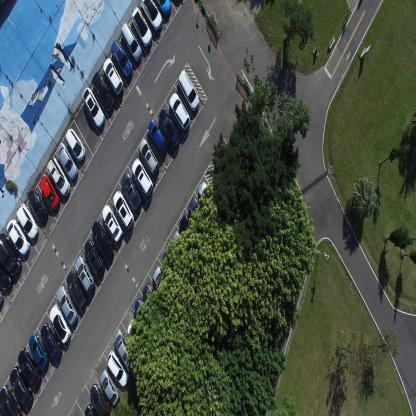car: (9, 364, 33, 408), (46, 156, 70, 198), (17, 347, 41, 389), (91, 70, 114, 113), (82, 86, 105, 129), (158, 108, 181, 150), (0, 231, 21, 276), (91, 218, 113, 260), (130, 5, 152, 47), (120, 21, 142, 63), (6, 218, 30, 256), (49, 303, 71, 344), (57, 284, 78, 326), (110, 39, 132, 79), (40, 322, 62, 362), (102, 203, 123, 244), (169, 91, 190, 132), (178, 69, 198, 112), (112, 190, 134, 229), (114, 328, 134, 370), (132, 156, 153, 196), (107, 349, 129, 387), (102, 56, 124, 94), (138, 138, 160, 176), (16, 203, 38, 240), (74, 254, 94, 294), (121, 171, 141, 211), (57, 143, 78, 181), (147, 119, 168, 156), (28, 333, 49, 370), (66, 271, 86, 309), (39, 174, 60, 210), (84, 238, 104, 275), (0, 383, 23, 415), (65, 127, 86, 162), (100, 368, 119, 406), (140, 0, 162, 32), (28, 188, 48, 223), (152, 264, 172, 298), (90, 382, 110, 415), (179, 214, 198, 248), (188, 196, 206, 230), (198, 180, 216, 214), (142, 282, 161, 314), (162, 249, 180, 281), (128, 318, 146, 350), (171, 229, 188, 262), (134, 298, 152, 326), (154, 0, 172, 18), (0, 264, 12, 290), (84, 402, 98, 415), (0, 291, 4, 308)
